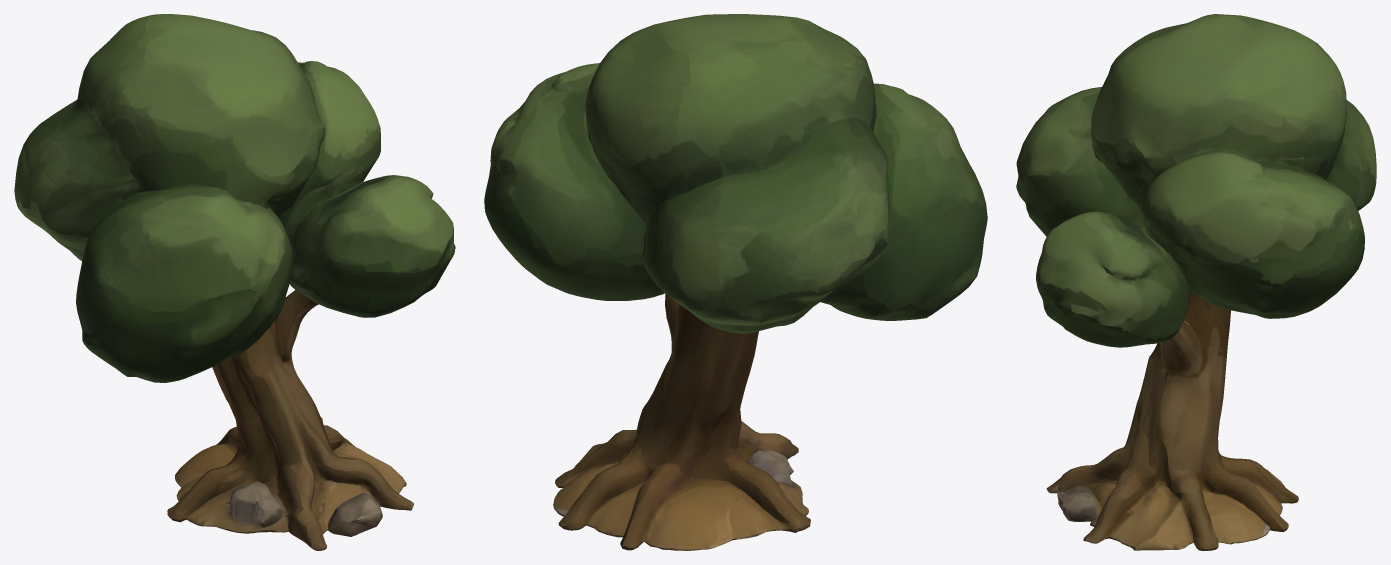
Rendered from forest_tree.glb.
3 renders of one model, left to right at view 1: azimuth 30°, elevation 25°; view 2: azimuth 150°, elevation 25°; view 3: azimuth 270°, elevation 25°, orthographic. The views are drawn at different scales.
Parts seen in each view (by area): view 1: geometry_0; view 2: geometry_0; view 3: geometry_0.
Part boxes in pixels (left/top/right/bottom): geometry_0: left=14, top=14, right=455, bottom=550; geometry_0: left=484, top=14, right=987, bottom=550; geometry_0: left=1016, top=14, right=1376, bottom=550.
Size of the model in its own units: 4.05 by 5 by 3.72.
1 material, 1 textured.
